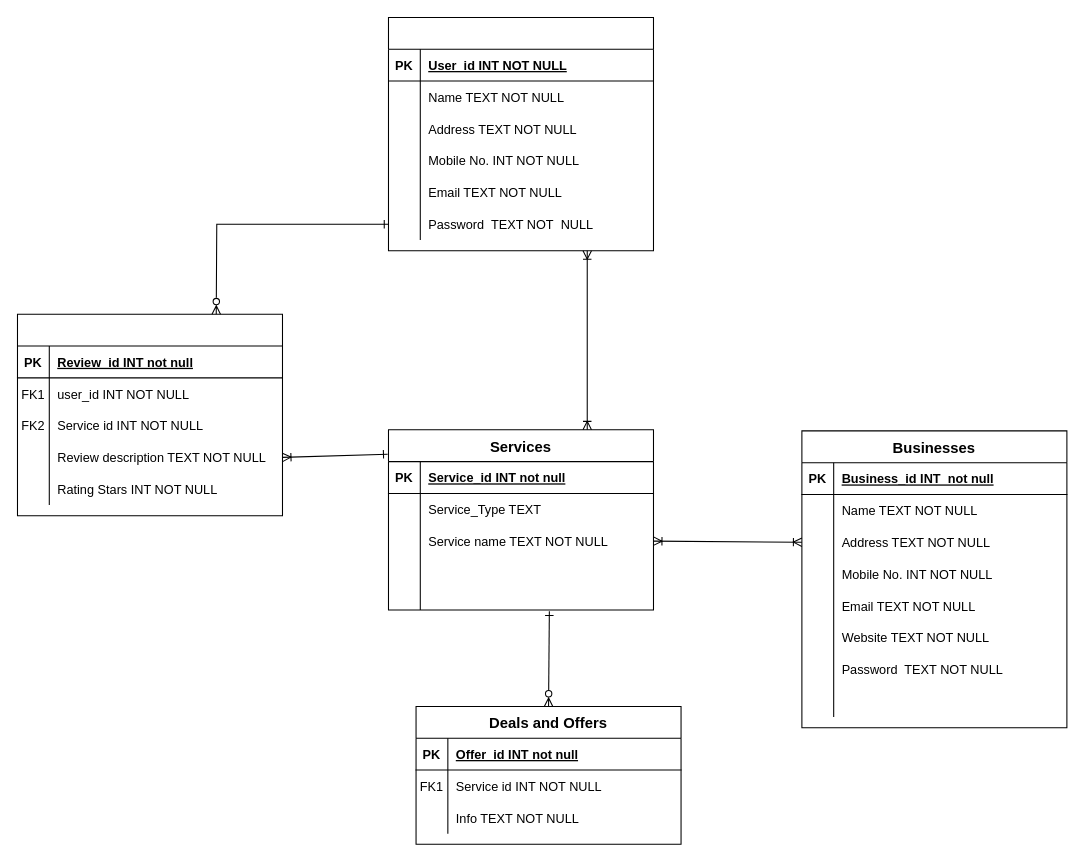
The diagram is 1084 pixels wide and 862 high, and some of its shapes have lost their labels. Each missing label, with the box of its shape:
Reviews and rating: (16, 313, 282, 516)
Users: (387, 16, 653, 251)
